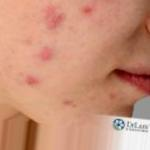Acne: (40, 2, 62, 32), (21, 73, 45, 90), (78, 4, 94, 20), (35, 48, 53, 62)
